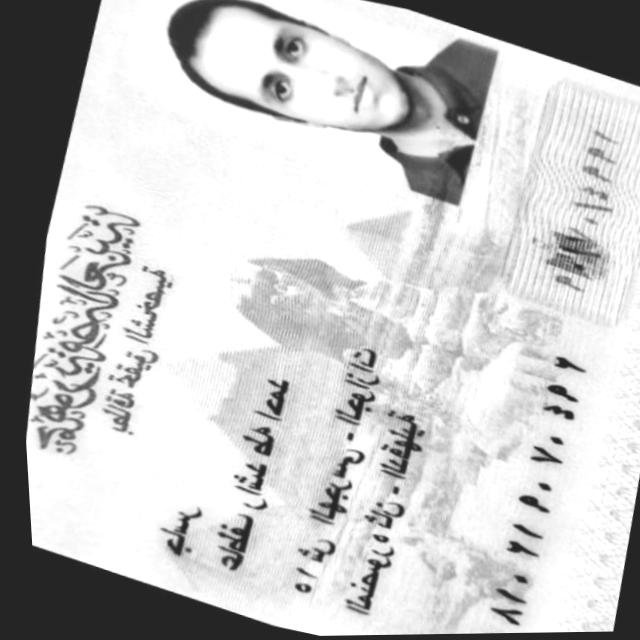front: (25, 0, 640, 636)
